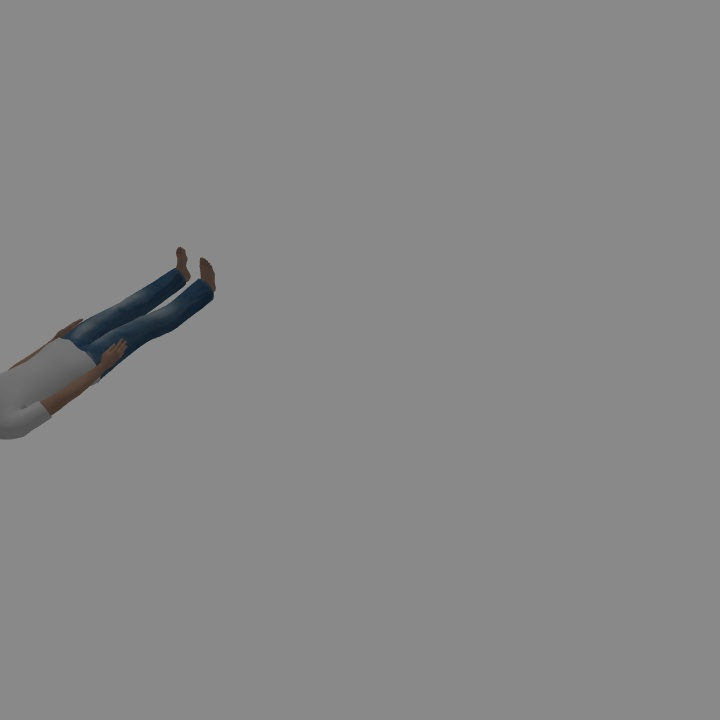victim: (1, 246, 214, 441)
